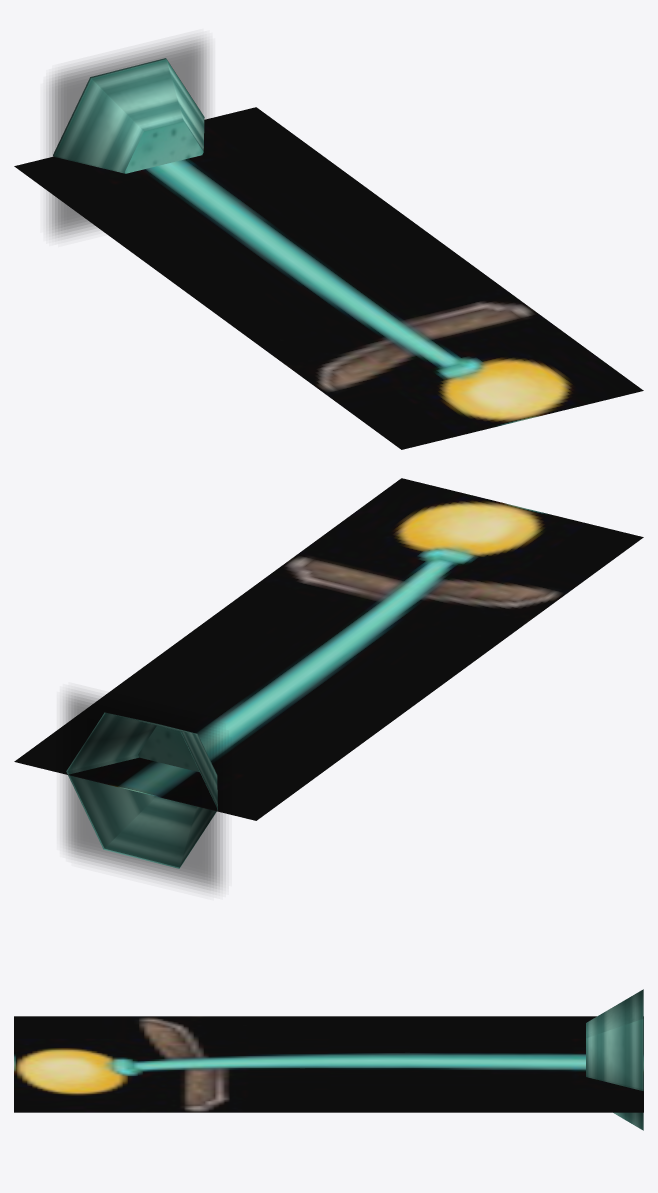
File: prop_post_sign.glb
3 renders of one model, top to bottom at view 1: azimuth 30°, elevation 25°; view 2: azimuth 150°, elevation 25°; view 3: azimuth 270°, elevation 25°, orthographic. The views are drawn at different scales.
Parts seen in each view (by area): view 1: prop_post_sign_streetlamp__billboard, prop_post_light_base, drop_shadow; view 2: prop_post_sign_streetlamp__billboard, drop_shadow, prop_post_light_base; view 3: prop_post_sign_streetlamp__billboard, prop_post_light_base.
Part boxes in pixels (bbox=[...]): prop_post_sign_streetlamp__billboard: bbox=[14, 107, 643, 449]; prop_post_light_base: bbox=[53, 58, 204, 173]; drop_shadow: bbox=[49, 37, 209, 237]; prop_post_sign_streetlamp__billboard: bbox=[14, 478, 643, 820]; drop_shadow: bbox=[63, 690, 222, 891]; prop_post_light_base: bbox=[66, 712, 217, 868]; prop_post_sign_streetlamp__billboard: bbox=[14, 1016, 643, 1112]; prop_post_light_base: bbox=[586, 989, 643, 1130].
Bounding box in the file's own units: 4.08 × 3.2 × 11.3.
Materials: 4 (4 with a texture image).
